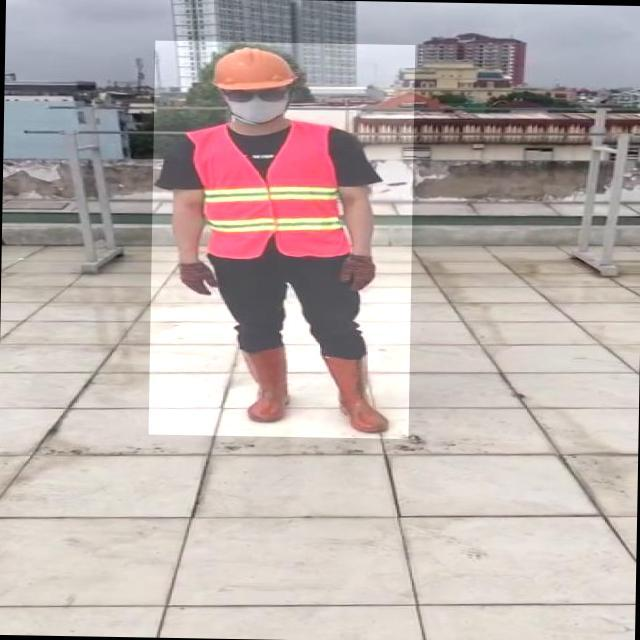Helmet: (210, 43, 303, 91)
Human: (148, 41, 415, 439)
Safety Boot: (320, 355, 391, 433), (237, 339, 294, 423)
Safety Vest: (188, 122, 352, 259)
